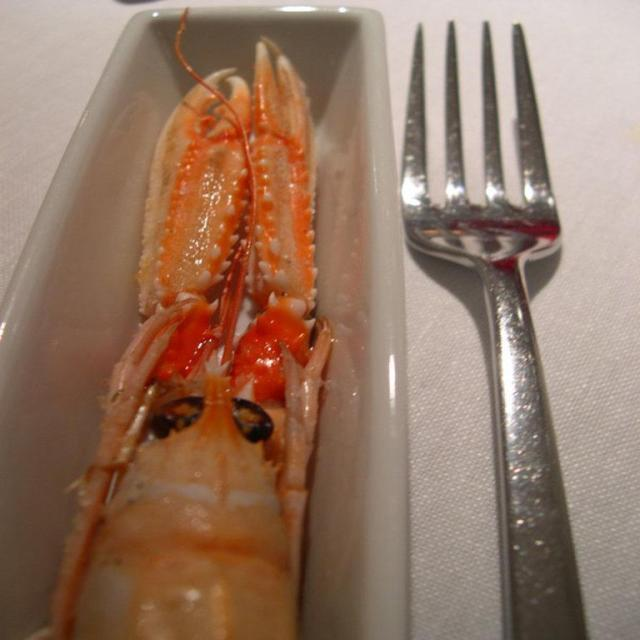Shrimp: (30, 2, 338, 638)
